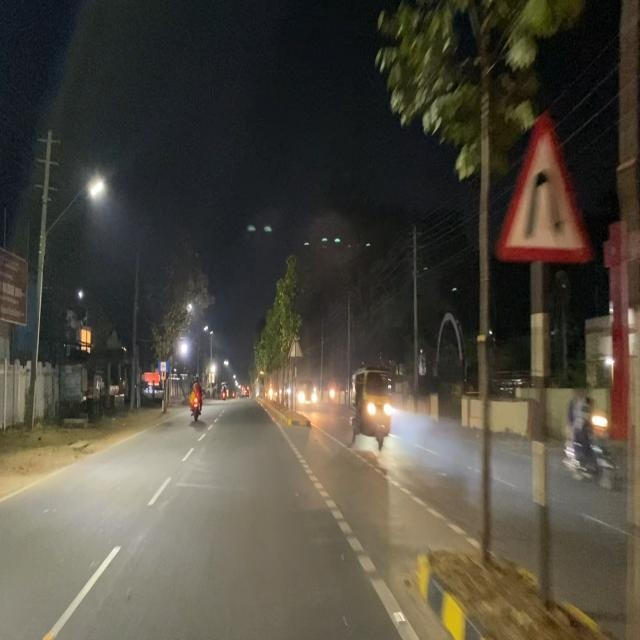bien_nguy_hiem: (493, 108, 594, 266)
